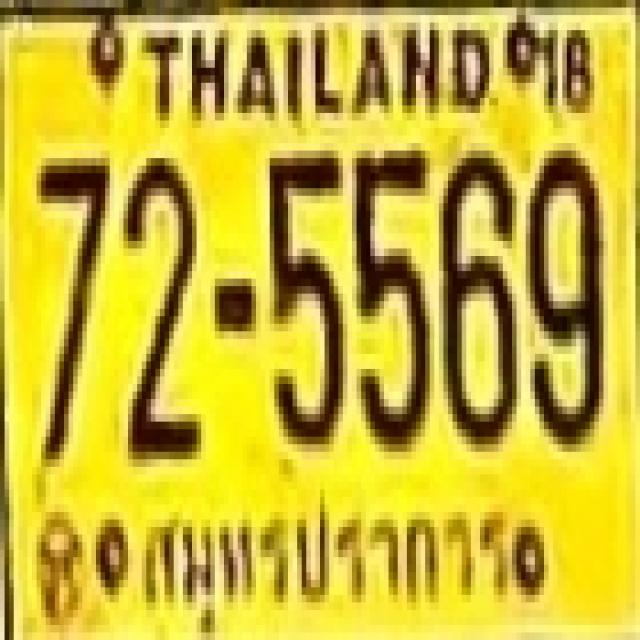2: (125, 158, 198, 460)
5: (352, 146, 429, 449), (268, 150, 346, 448)
6: (439, 143, 517, 443)
7: (37, 147, 105, 455)
9: (526, 143, 604, 441)
SPK: (133, 471, 516, 634)
